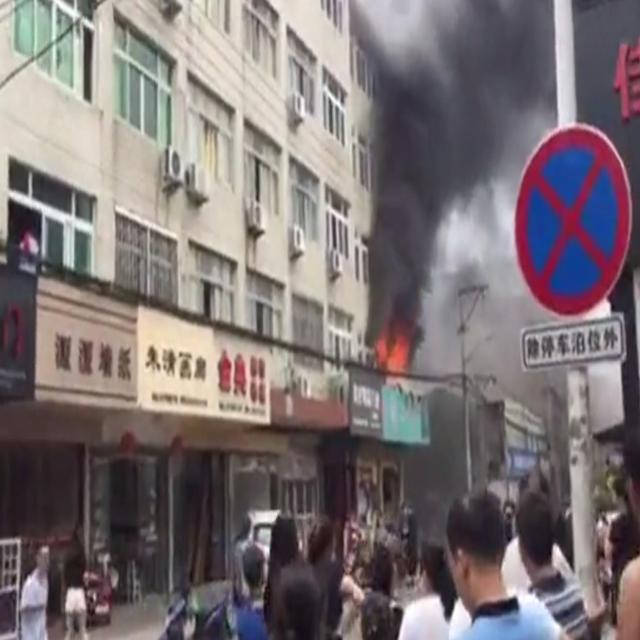fire: (373, 328, 413, 373)
smoke: (375, 4, 542, 192), (368, 34, 439, 323)
